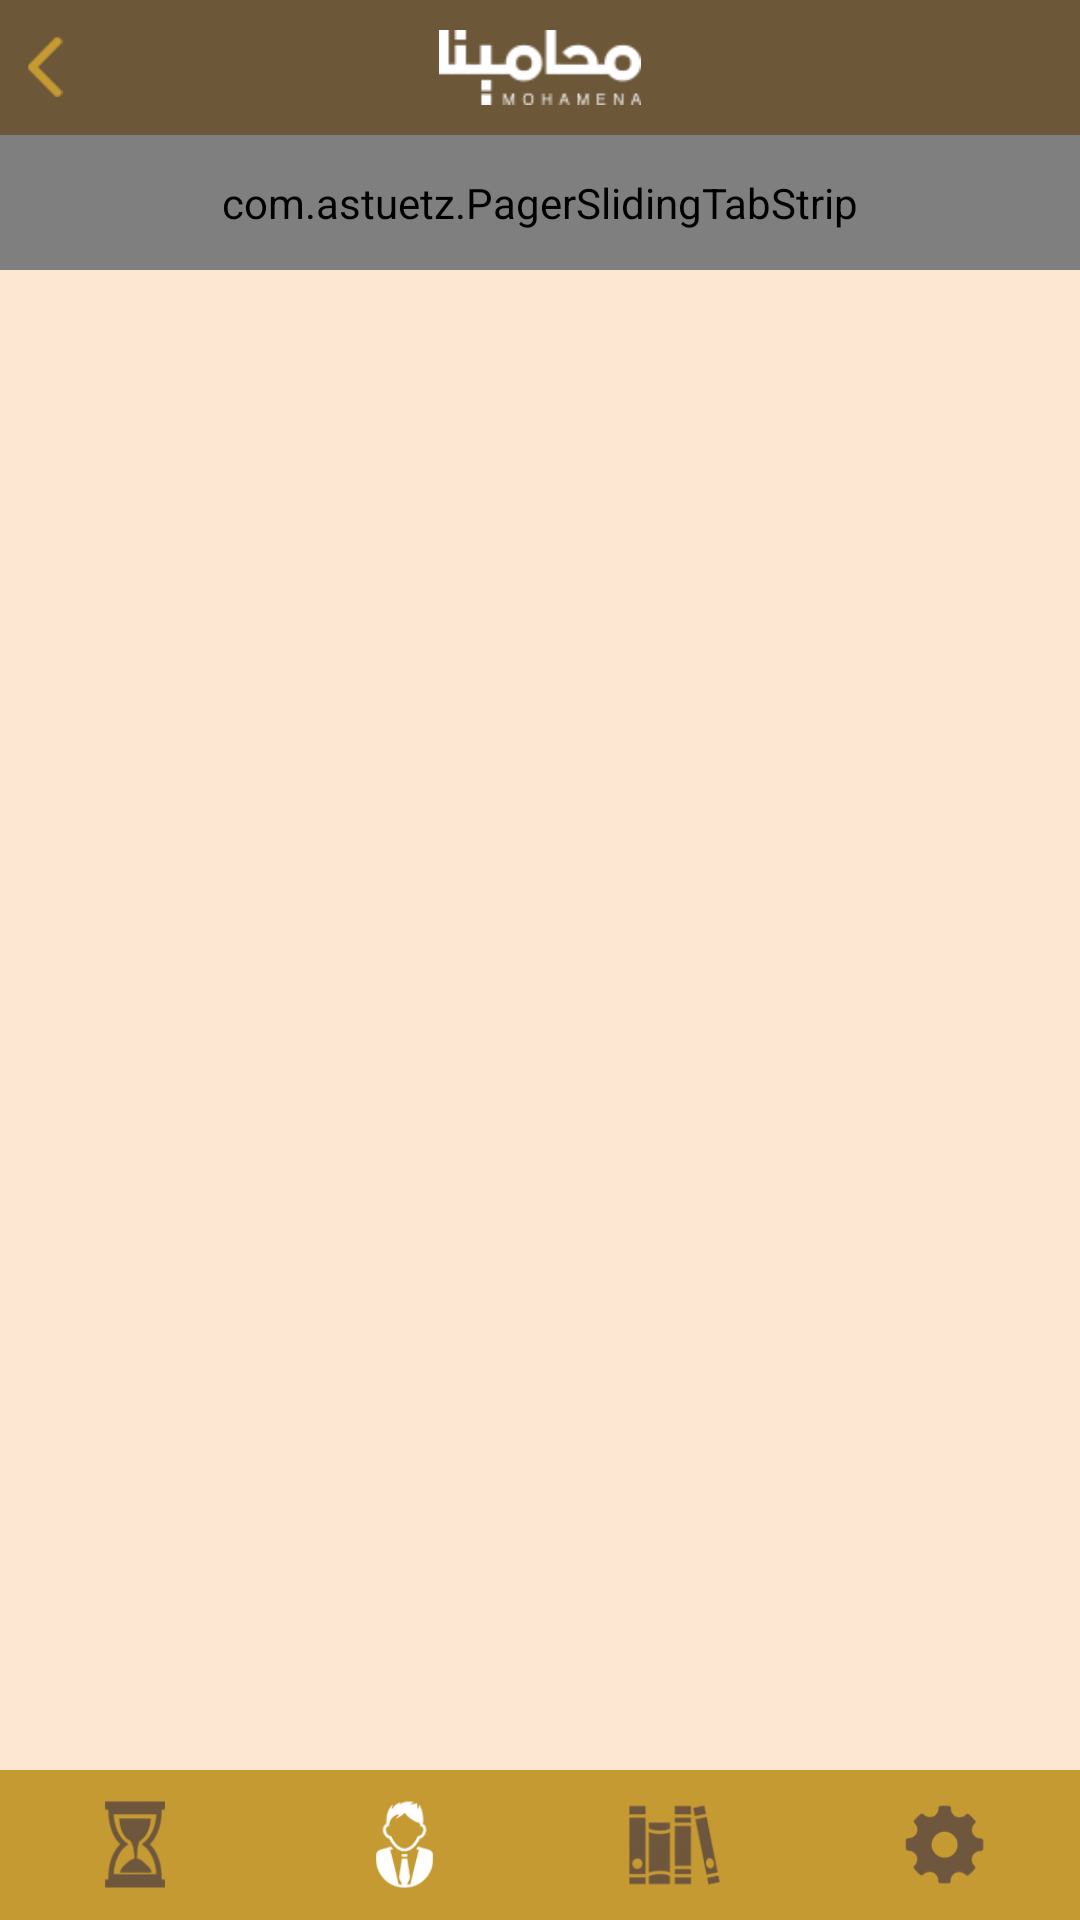

Icon bounding boxes for this 1080×1920 phone screenshot, format {"left": x1, "top": y1, "right": x2, "bottom": y2}:
back: {"left": 28, "top": 37, "right": 63, "bottom": 97}
books: {"left": 629, "top": 1806, "right": 720, "bottom": 1885}
loader: {"left": 105, "top": 1801, "right": 165, "bottom": 1888}
settings: {"left": 905, "top": 1805, "right": 984, "bottom": 1884}
user: {"left": 376, "top": 1801, "right": 433, "bottom": 1888}
